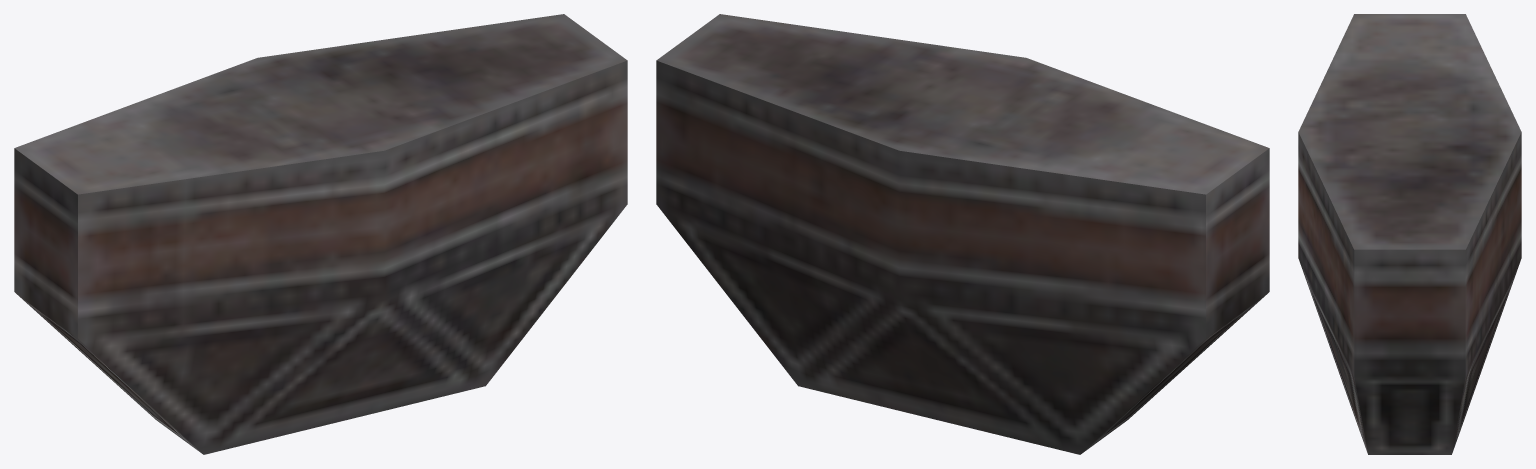
The model's file is sm_dwarf_iron_sword_pommel_b.fbx.
The picture shows the model from 3 angles, left to right: view 1: azimuth 30°, elevation 25°; view 2: azimuth 150°, elevation 25°; view 3: azimuth 270°, elevation 25°; orthographic projection. The views are drawn at different scales.
Parts seen in each view (by area): view 1: sm_dwarf_iron_sword_pommel_b; view 2: sm_dwarf_iron_sword_pommel_b; view 3: sm_dwarf_iron_sword_pommel_b.
Boxes of the visible parts, x1,y1,x2,y2 form: sm_dwarf_iron_sword_pommel_b: (14, 14, 627, 454); sm_dwarf_iron_sword_pommel_b: (656, 14, 1269, 454); sm_dwarf_iron_sword_pommel_b: (1298, 14, 1521, 454).
Size of the model in its own units: 0.1 by 0.04 by 0.0519.
1 material, 1 textured.
